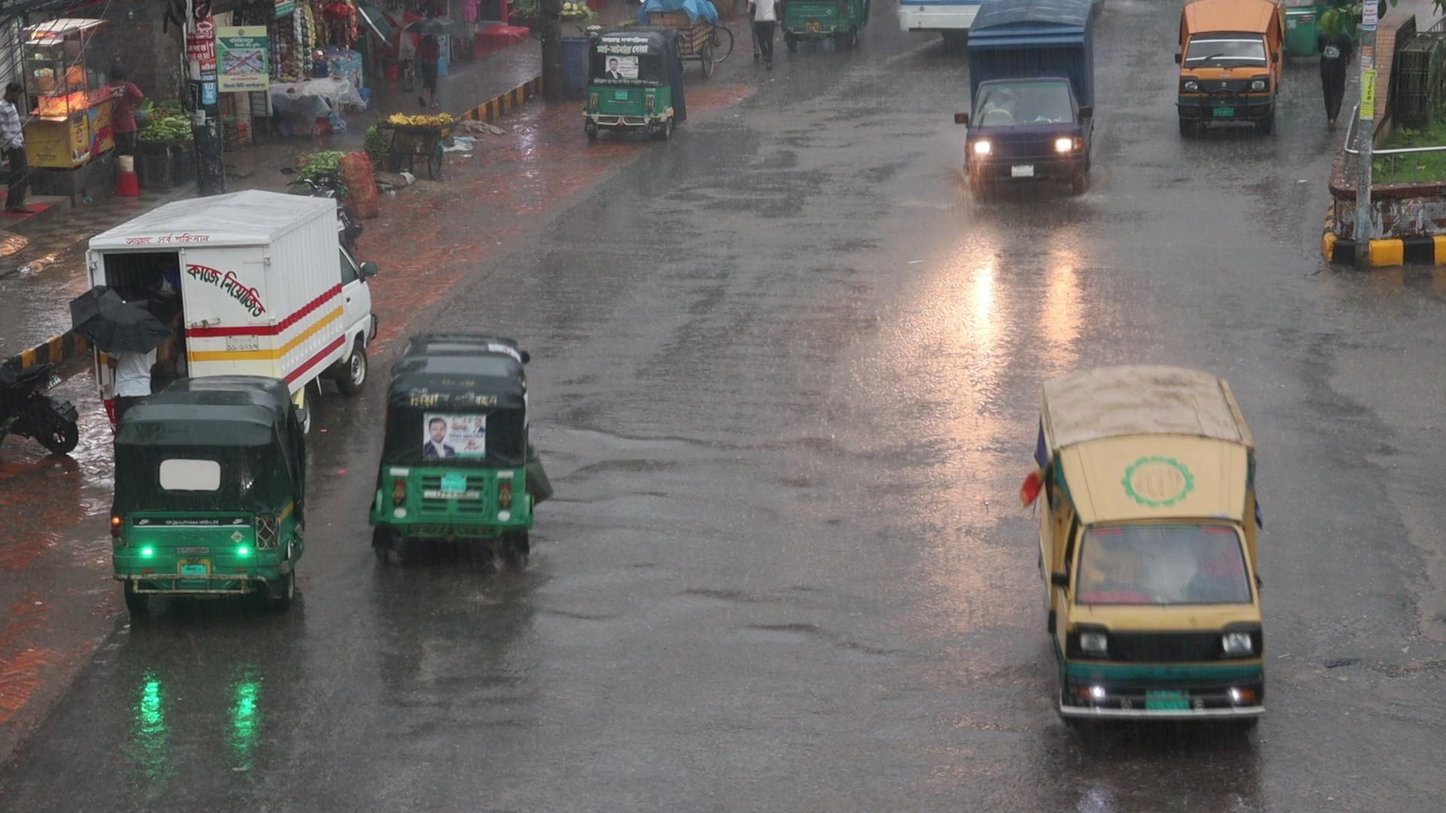Truck: (1026, 356, 1273, 747), (956, 1, 1107, 209), (1171, 6, 1293, 140)
